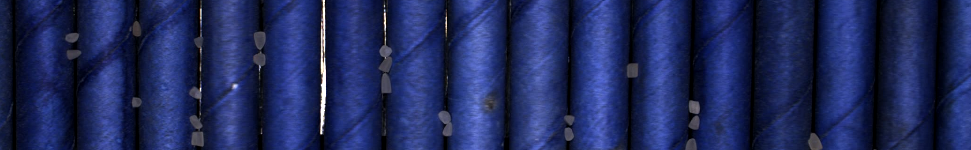broken_grain: (801, 128, 827, 150), (377, 70, 395, 98), (251, 28, 269, 52), (375, 57, 398, 74), (623, 60, 641, 81), (190, 130, 208, 150), (435, 106, 453, 126), (188, 113, 206, 132), (684, 97, 702, 116), (63, 29, 81, 47), (252, 51, 270, 69), (63, 46, 84, 61), (376, 43, 395, 59), (440, 120, 455, 139), (687, 116, 704, 131), (128, 96, 146, 110), (562, 125, 575, 143), (561, 111, 577, 125), (684, 136, 699, 150), (132, 18, 142, 38), (193, 34, 204, 50)
milky_broken_grain: (186, 86, 202, 104)
